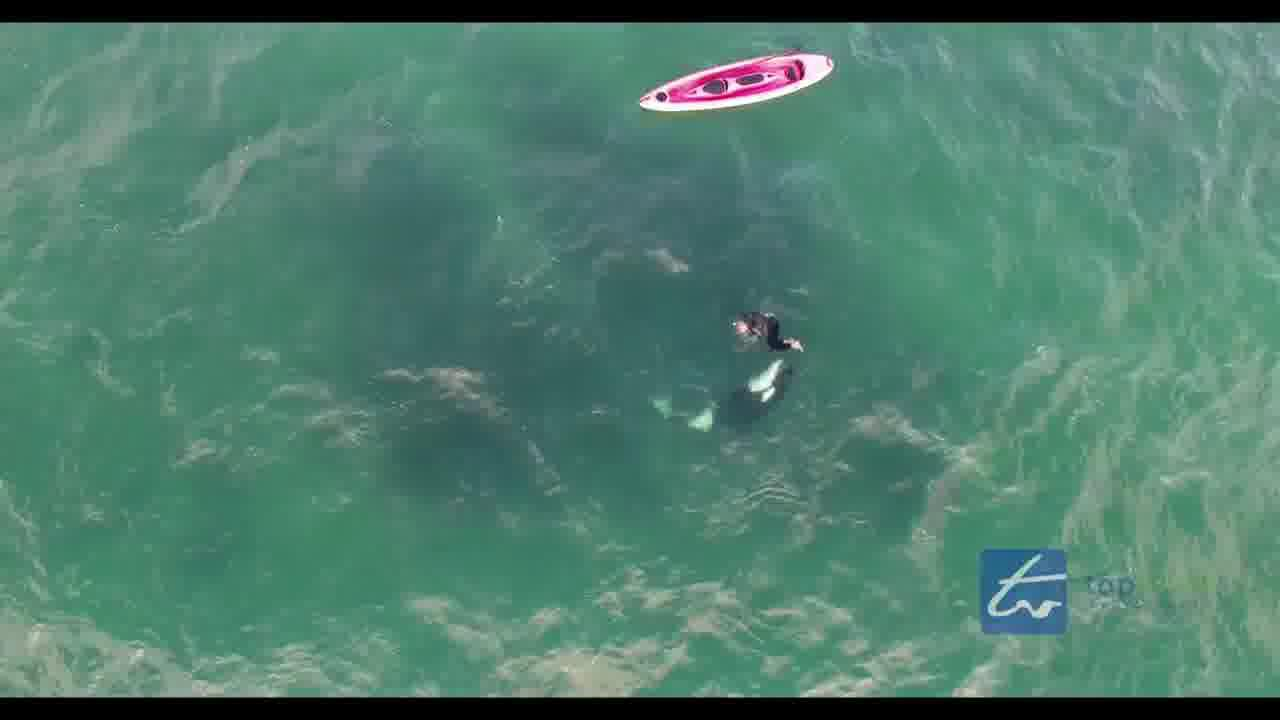human: (740, 302, 801, 359)
